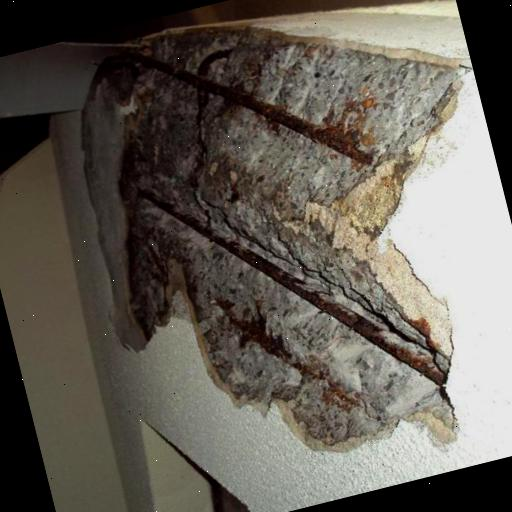spalling: (81, 27, 470, 456)
